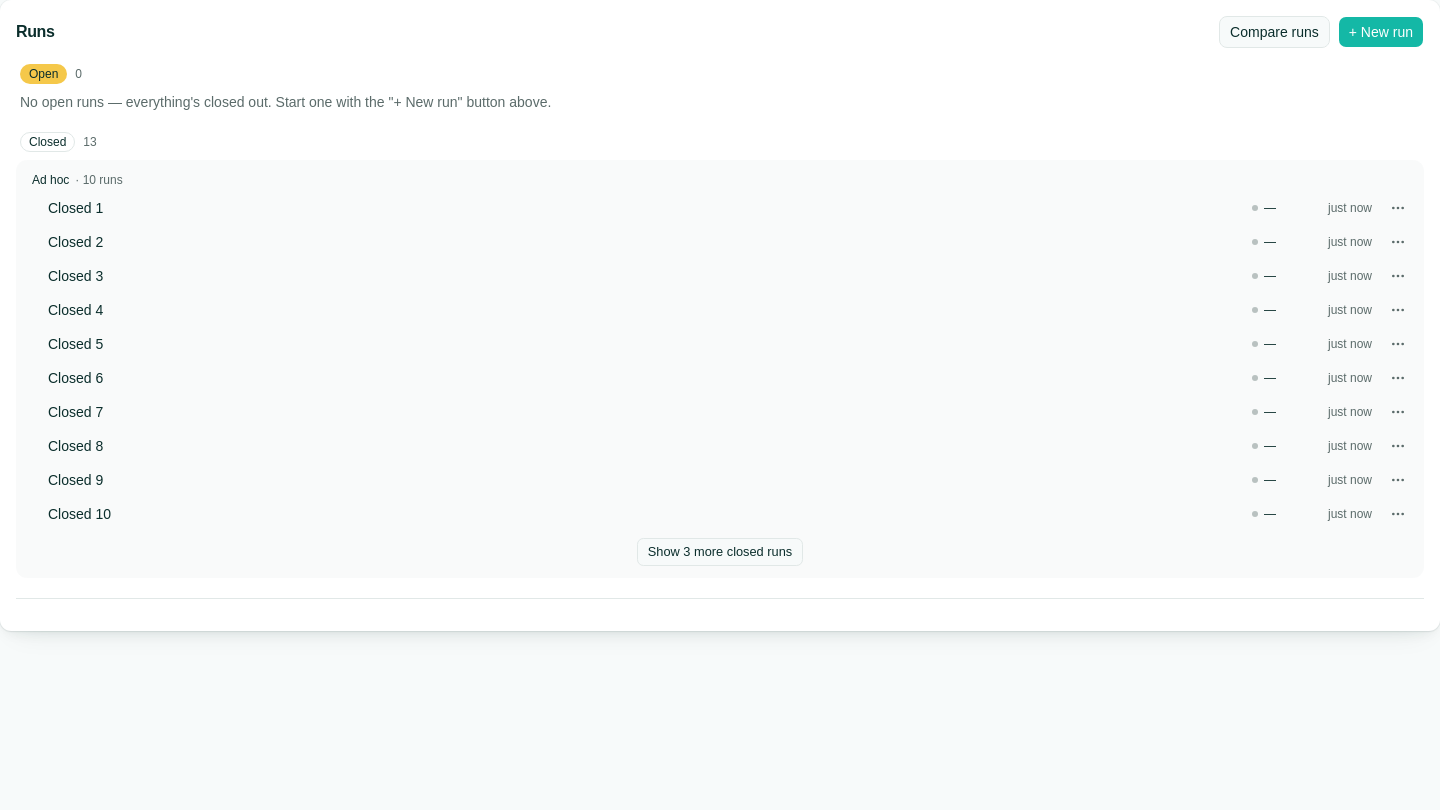
RunsPage › caps the Closed section at 10 rows, with a control to reveal the rest
This screenshot has width=1440, height=810.
Check: the link "Closed 1 — just now" is shown, box x1=48 y1=200 x2=1372 y2=216
Check: the link "closed 11" is not shown
Click the button "Show 3 more closed runs" at point(720, 552), box x1=637 y1=538 x2=803 y2=566
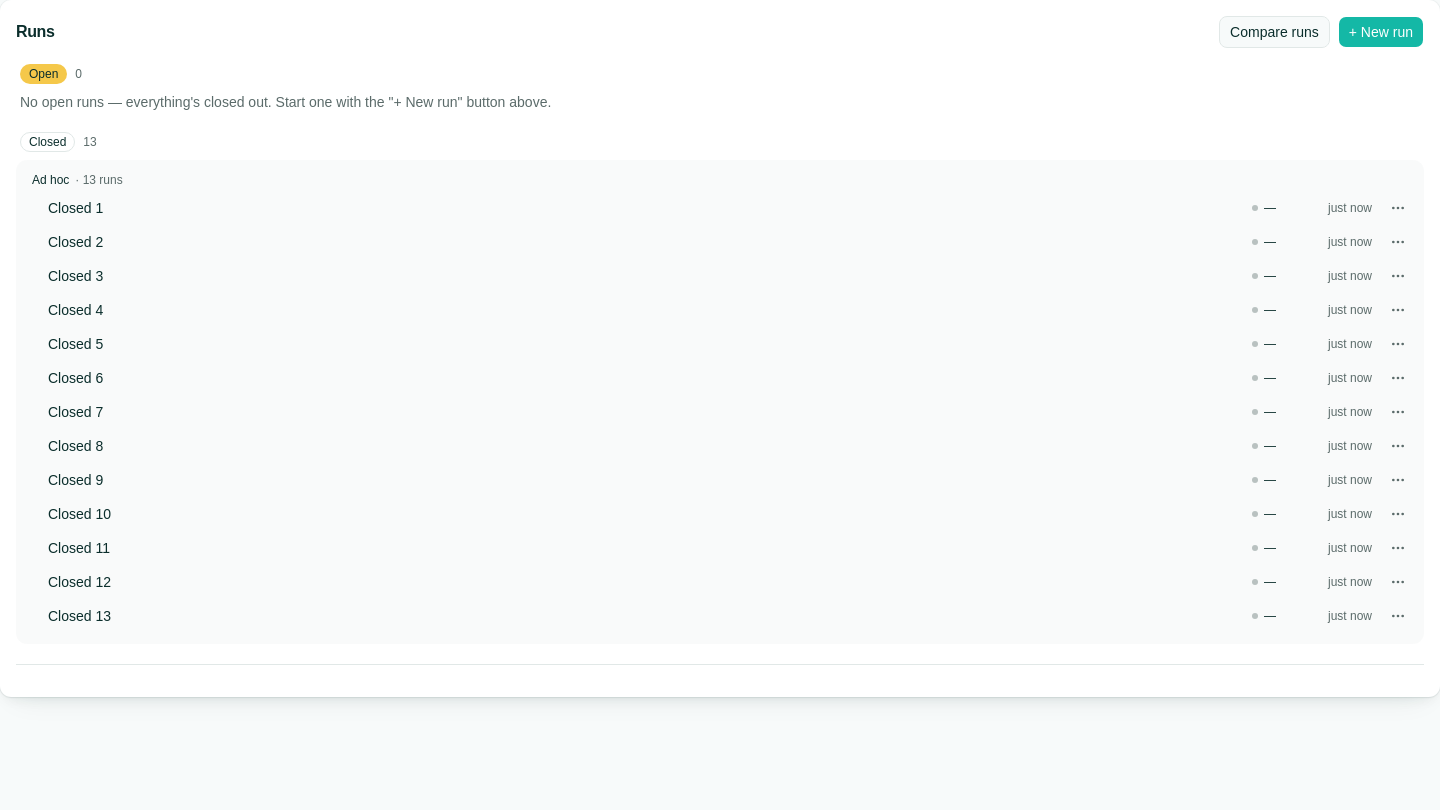
Check: the link "Closed 11 — just now" is shown, box x1=48 y1=540 x2=1372 y2=556
